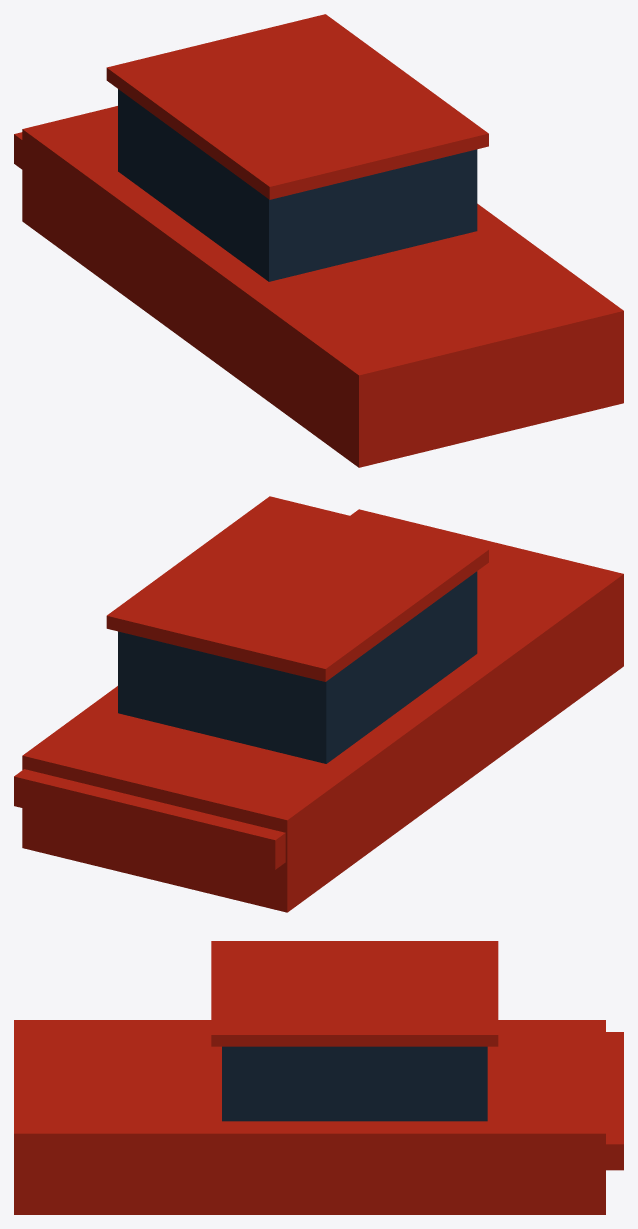
Rendered from body.gltf.
3 renders of one model, top to bottom at view 1: azimuth 30°, elevation 25°; view 2: azimuth 150°, elevation 25°; view 3: azimuth 270°, elevation 25°, orthographic. The views are drawn at different scales.
Visible parts, largest first — view 1: Fictional TrackRS PBR test car; view 2: Fictional TrackRS PBR test car; view 3: Fictional TrackRS PBR test car.
Boxes of the visible parts, x1,y1,x2,y2 form: Fictional TrackRS PBR test car: [14, 14, 623, 467]; Fictional TrackRS PBR test car: [14, 496, 623, 912]; Fictional TrackRS PBR test car: [14, 941, 623, 1214].
Bounding box in the file's own units: 1.5 × 1.04 × 3.4.
Materials: 2 (2 with a texture image).
